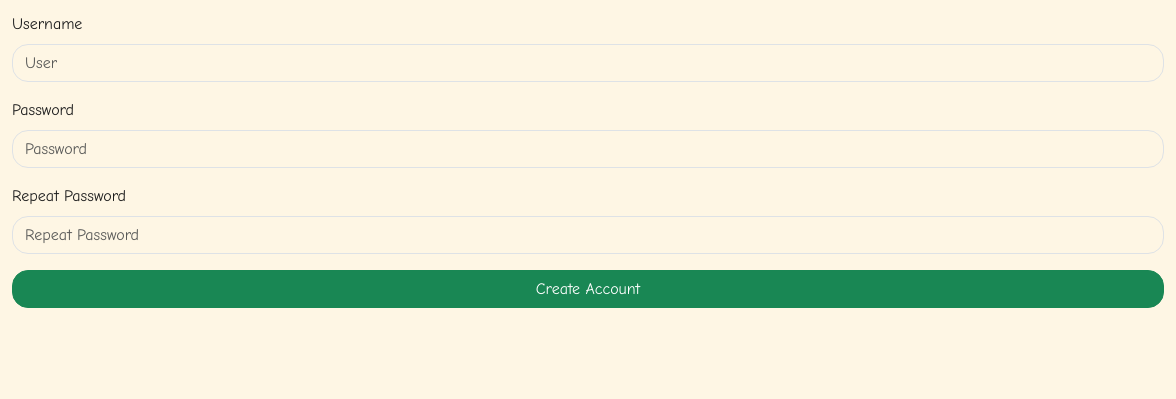
Test: CreateAccountForm › shows a fallback error message on API failures without specific message
The image size is (1176, 399).
Type "anotheruser" into the field labelled "Username" at x=588, y=63, box [12,44,1164,82]
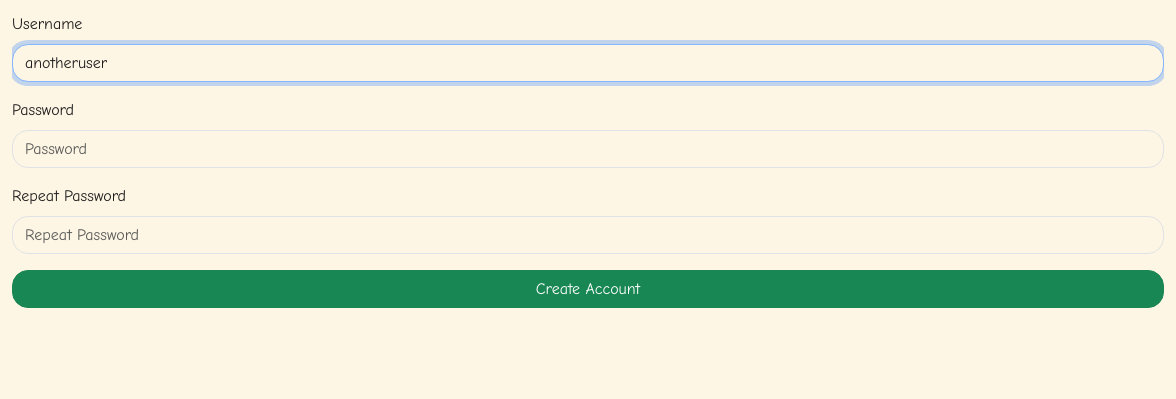
Type "anotherpassword" into the password field labelled "Password" at x=588, y=149, box [12,130,1164,168]
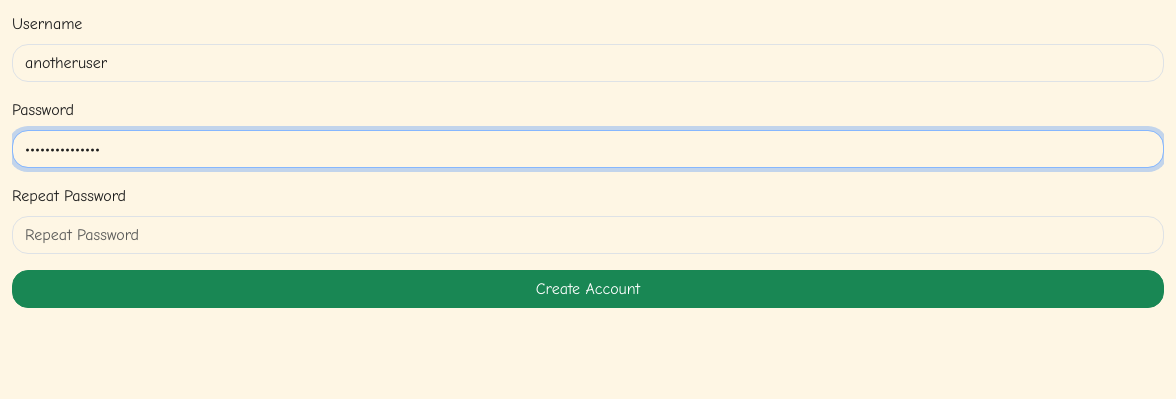
Type "anotherpassword" into the password field labelled "Repeat Password" at x=588, y=235, box [12,216,1164,254]
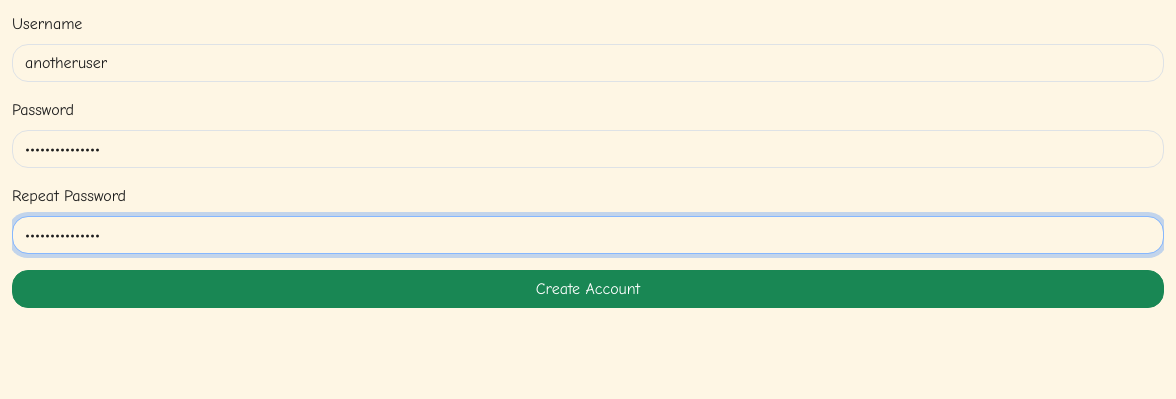
Click the button "Create Account" at x=588, y=289, box [12,270,1164,308]
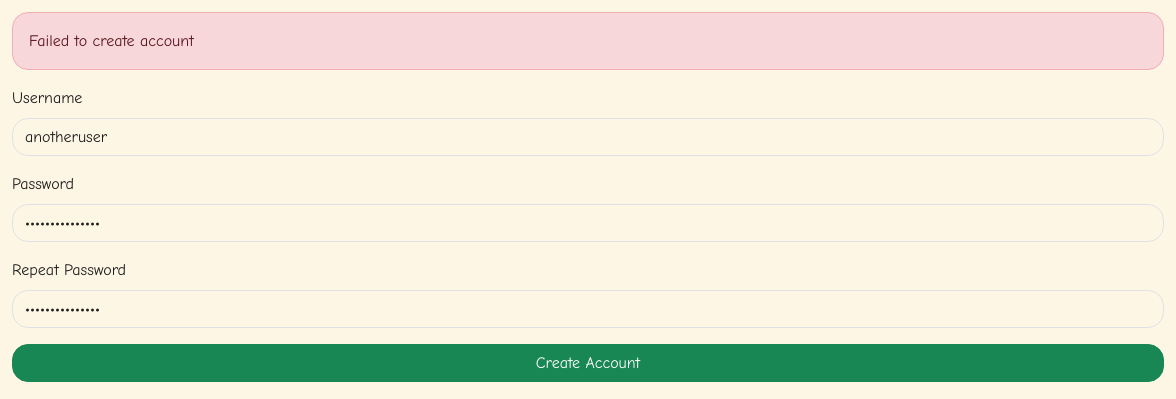
Result: the text "Failed to create account" is shown at [12,12,1164,70]
